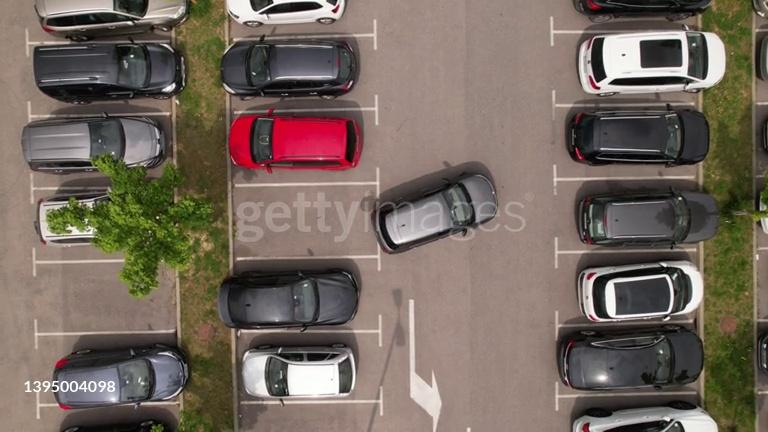car: (375, 172, 496, 251), (580, 29, 724, 94), (52, 345, 186, 408), (562, 330, 700, 389), (218, 269, 358, 326), (22, 116, 161, 172), (578, 258, 703, 320), (569, 110, 708, 165), (224, 39, 354, 97), (231, 115, 364, 168), (581, 190, 692, 247), (32, 43, 124, 102), (35, 0, 185, 36), (246, 348, 354, 397), (575, 402, 717, 431), (36, 191, 113, 244), (665, 189, 719, 241), (578, 0, 710, 18), (137, 43, 180, 95), (116, 43, 148, 89), (62, 418, 169, 431), (224, 0, 270, 26), (753, 11, 767, 80), (753, 103, 767, 157), (267, 1, 319, 14), (754, 187, 767, 233), (755, 332, 766, 375), (750, 0, 766, 18), (762, 195, 768, 232), (763, 114, 768, 155), (763, 338, 768, 371), (329, 0, 339, 9)
